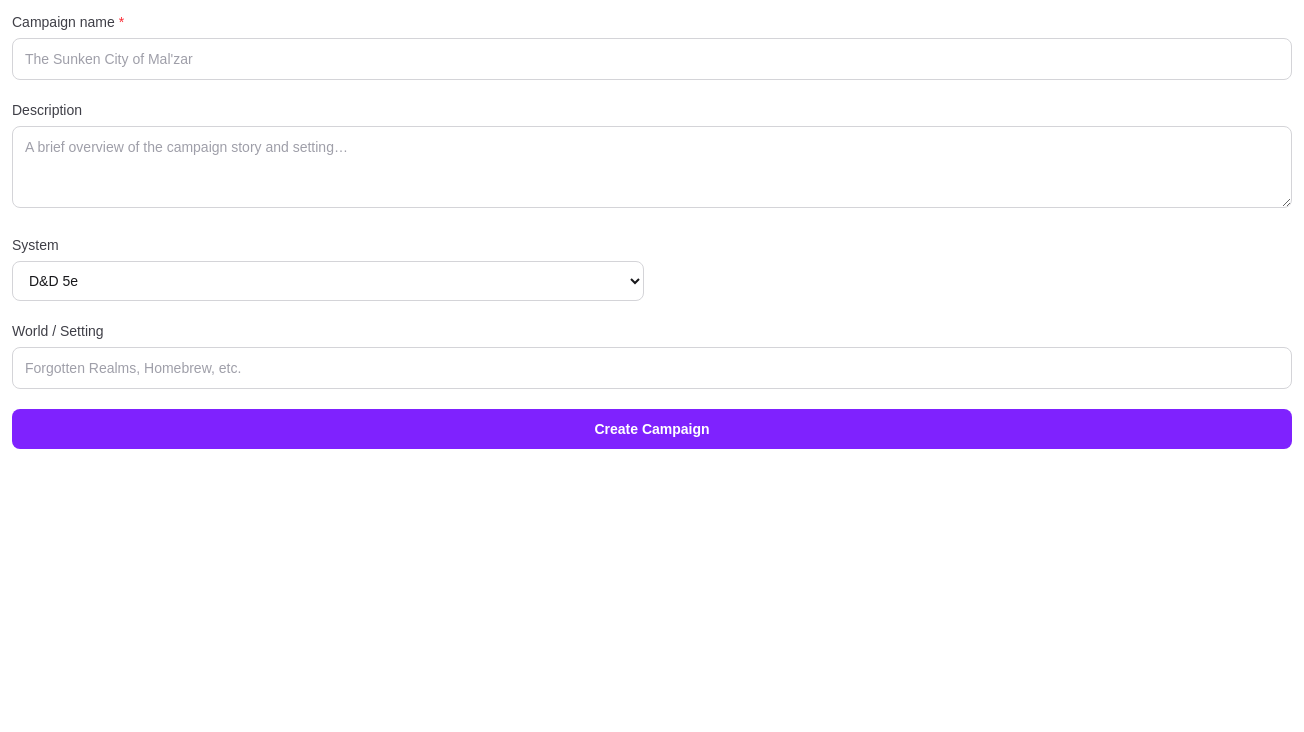
Scenario: CampaignForm › shows error message returned from action
This screenshot has width=1304, height=732.
Type "My Campaign" into the field with placeholder "The Sunken City of Mal'zar".
click(652, 59); type("My Campaign")  # box x1=12 y1=38 x2=1292 y2=80
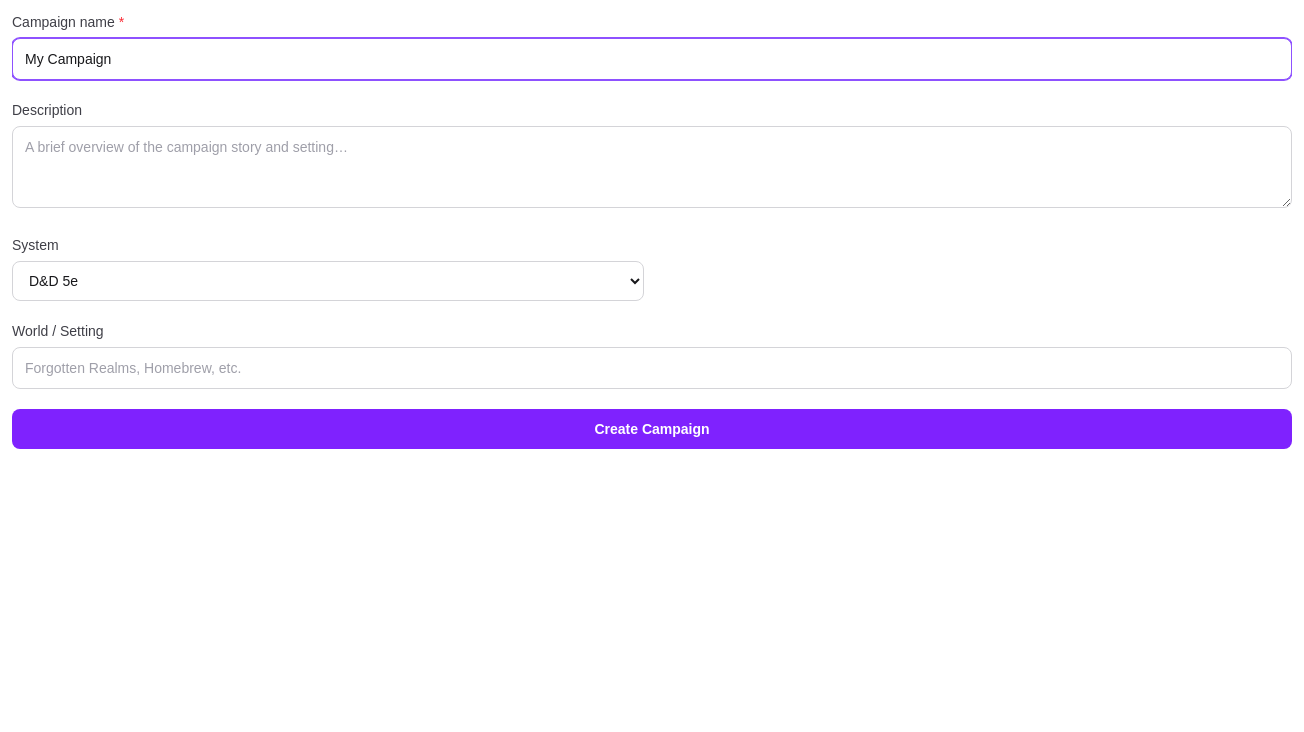
Click the button "Create Campaign".
click(652, 429)  # box x1=12 y1=409 x2=1292 y2=449
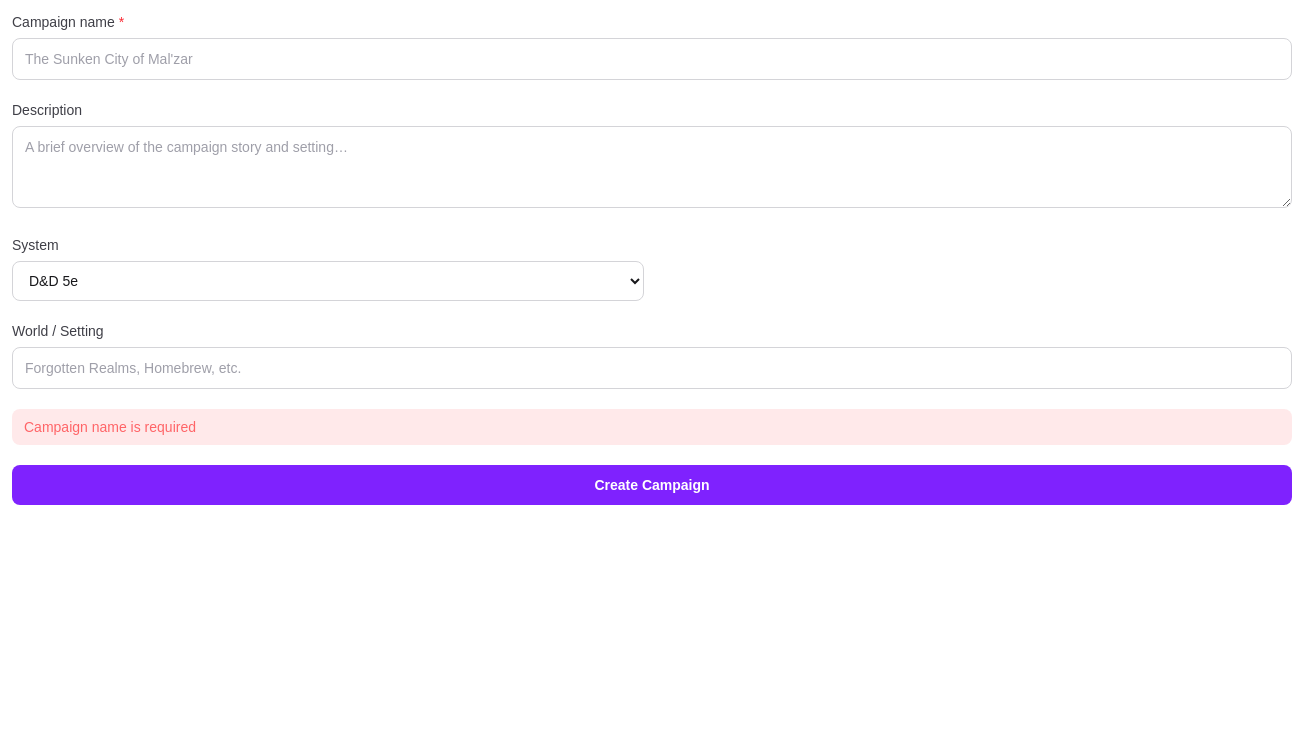
Now the text "Campaign name is required" is shown, box x1=12 y1=409 x2=1292 y2=445
